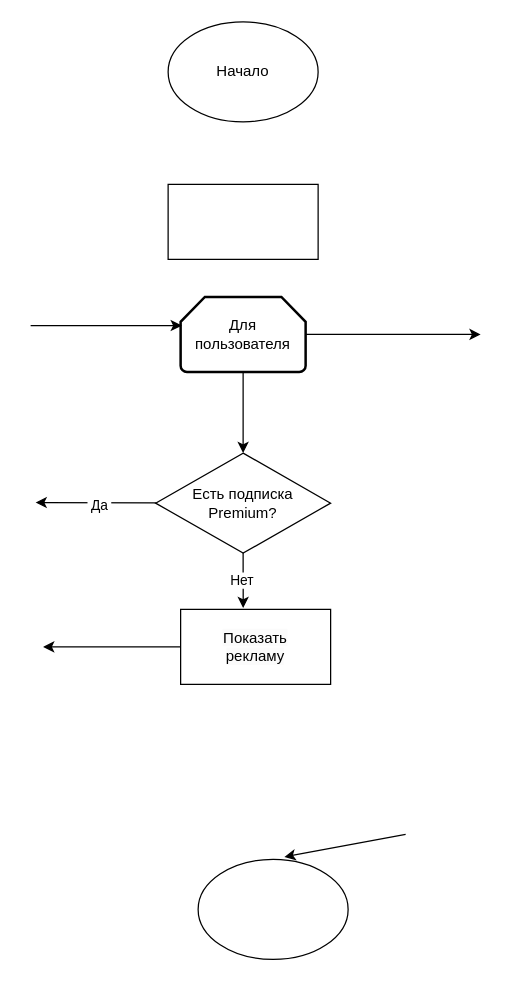
The diagram is 513 pixels wide and 981 high, and some of its shapes have lost their labels. Each missing label, with the centre of its shape:
"Конец" belongs at (272,908).
"Создать список из 3х пользователей" belongs at (242,221).
